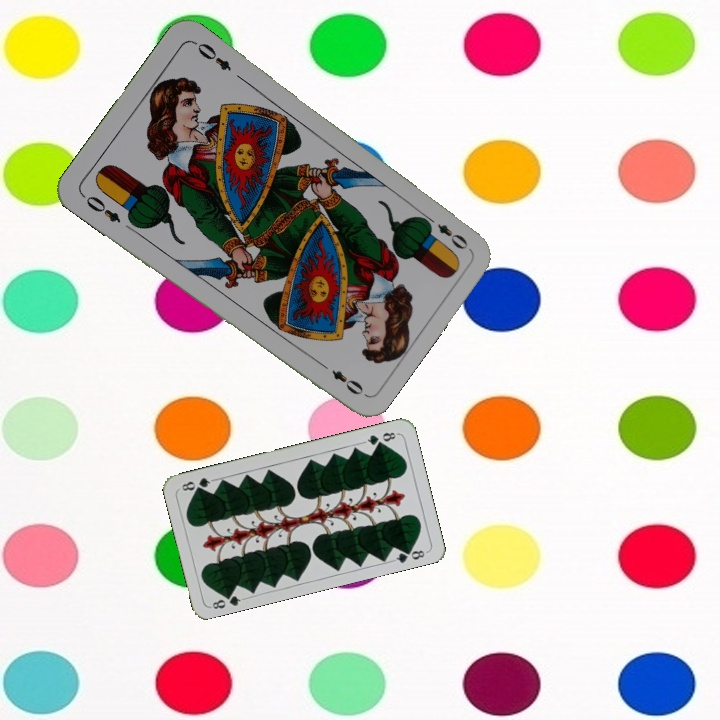EO: (419, 211, 471, 253), (78, 190, 124, 226)
G8: (207, 588, 247, 612), (360, 428, 400, 448)
